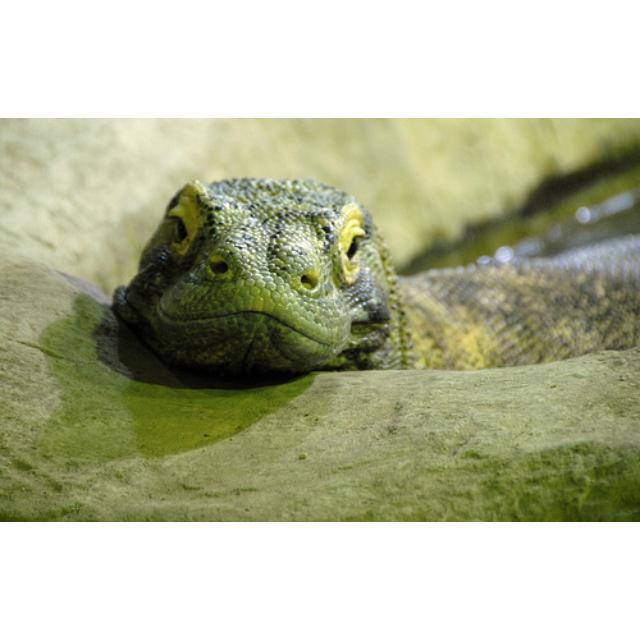KomodoDragon: (111, 177, 638, 388)
